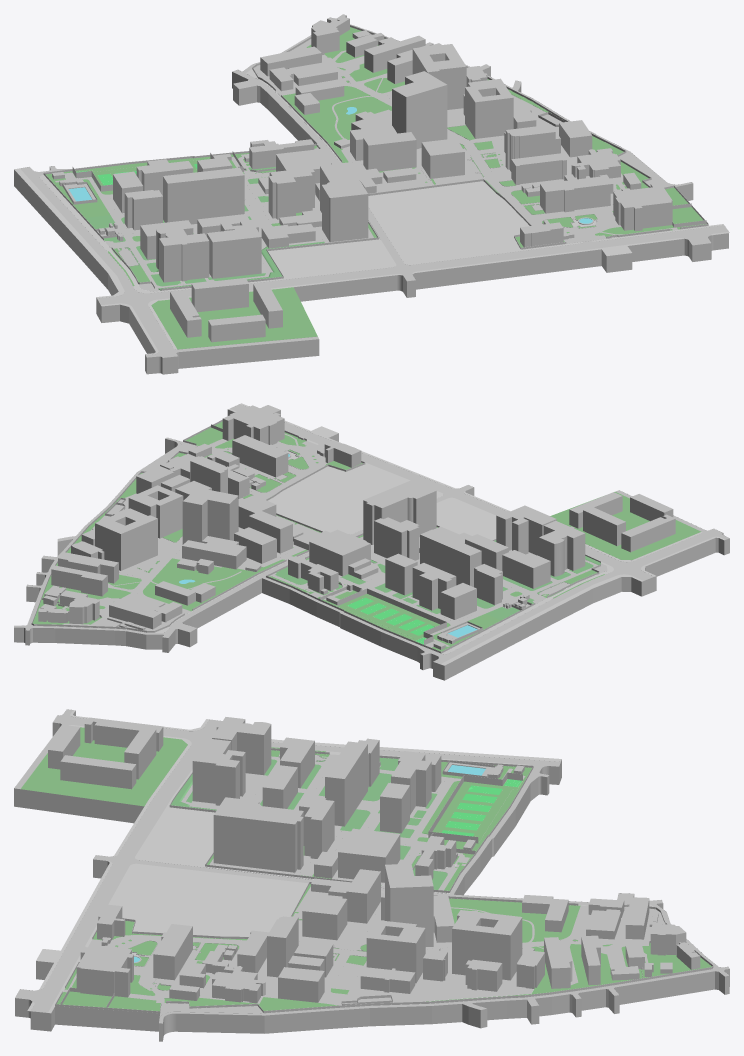
File: uec-ground.glb
3 views of the same model, one above another, from view 1: azimuth 30°, elevation 25°; view 2: azimuth 150°, elevation 25°; view 3: azimuth 270°, elevation 25° (orthographic). The views are drawn at different scales.
Visible parts, largest first — view 1: Body19, Body29, Body623, Body714, building_西2号館ボディ166, Body518, UECポート, building_西10号館ボディ158, building_図書館Aボディ157, Body28, building_西8号館ボディ170, building_西9号館ボディ171 (+46 smaller); view 2: Body623, Body19, Body29, Body717, building_東6号館ボディ130, building_西10号館ボディ158, building_図書館Aボディ157, building_体育館ボディ174, Body518, building_西2号館ボディ166, UECポート, building_西9号館ボディ171 (+45 smaller); view 3: Body623, Body19, Body29, building_西10号館ボディ158, UECポート, building_東6号館ボディ130, Body518, Body28, Body445, building_西8号館ボディ170, building_図書館Aボディ157, building_東4号館Aボディ128 (+54 smaller).
Boxes of the visible parts, <box> form: Body19: <box>20,14,728,357</box>; Body29: <box>368,181,529,263</box>; Body623: <box>27,15,728,374</box>; Body714: <box>413,239,684,289</box>; building_西2号館ボディ166: <box>163,167,244,224</box>; Body518: <box>349,73,625,240</box>; UECポート: <box>151,287,317,349</box>; building_西10号館ボディ158: <box>320,162,368,242</box>; building_図書館Aボディ157: <box>392,71,447,148</box>; Body28: <box>268,239,395,278</box>; building_西8号館ボディ170: <box>207,219,261,278</box>; building_西9号館ボディ171: <box>156,224,209,282</box>; Body623: <box>14,410,729,678</box>; Body19: <box>14,404,729,664</box>; Body29: <box>268,464,441,534</box>; Body717: <box>440,577,643,680</box>; building_東6号館ボディ130: <box>95,508,157,570</box>; building_西10号館ボディ158: <box>363,480,436,544</box>; building_図書館Aボディ157: <box>182,487,238,544</box>; building_体育館ボディ174: <box>309,529,378,579</box>; Body518: <box>108,439,327,593</box>; building_西2号館ボディ166: <box>420,529,481,586</box>; UECポート: <box>550,492,700,559</box>; building_西9号館ボディ171: <box>539,520,585,576</box>; Body623: <box>14,709,729,1041</box>; Body19: <box>14,709,729,1023</box>; Body29: <box>111,864,307,936</box>; building_西10号館ボディ158: <box>213,797,303,872</box>; UECポート: <box>20,727,187,806</box>; building_東6号館ボディ130: <box>452,910,522,980</box>; Body518: <box>98,892,578,1003</box>; Body28: <box>138,807,214,867</box>; Body445: <box>164,943,711,1010</box>; building_西8号館ボディ170: <box>192,738,245,805</box>; building_図書館Aボディ157: <box>385,863,433,946</box>; building_東4号館Aボディ128: <box>366,920,425,983</box>.
Size of the model in its own units: 529 by 61.9 by 509.
